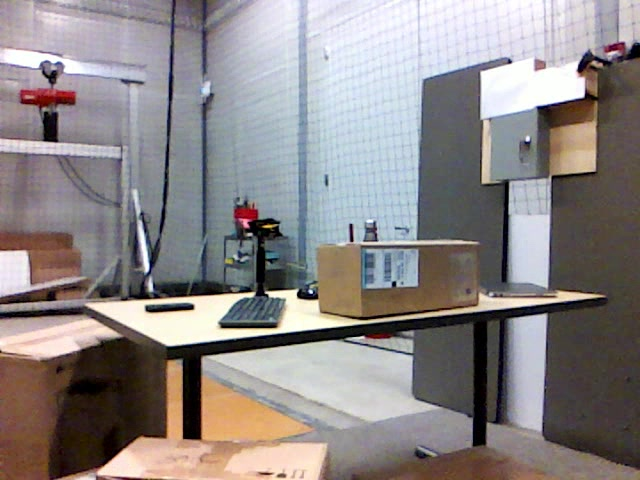box: (1, 320, 169, 479), (314, 242, 479, 319), (98, 435, 327, 480)
